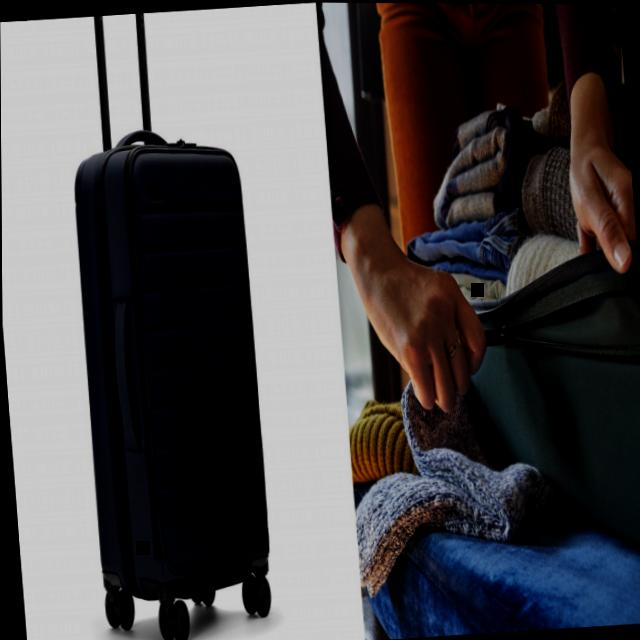luggage: (63, 115, 281, 613)
